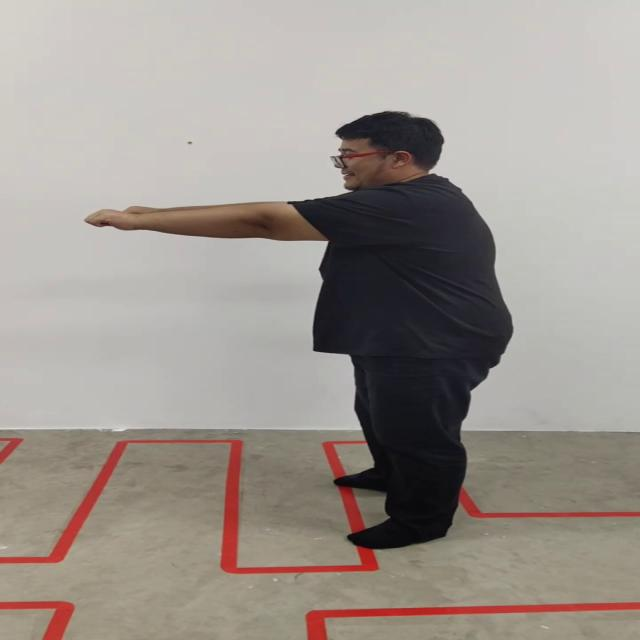stand: (86, 110, 514, 551)
